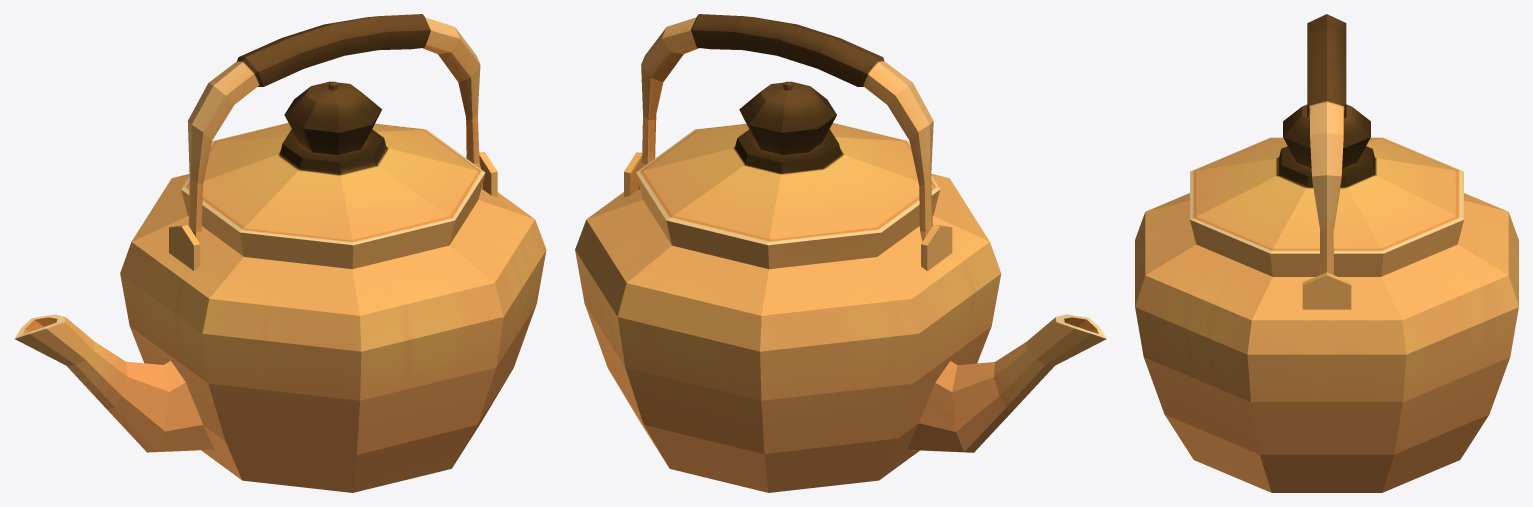
File: Background_Stage4Decoration_boiler_A.fbx
The picture shows the model from 3 angles, left to right: view 1: azimuth 30°, elevation 25°; view 2: azimuth 150°, elevation 25°; view 3: azimuth 270°, elevation 25°; orthographic projection. The views are drawn at different scales.
Parts seen in each view (by area): view 1: Background_Stage4Decoration_boiler_A; view 2: Background_Stage4Decoration_boiler_A; view 3: Background_Stage4Decoration_boiler_A.
Part boxes in pixels (bbox=[...]): Background_Stage4Decoration_boiler_A: bbox=[14, 14, 546, 492]; Background_Stage4Decoration_boiler_A: bbox=[575, 14, 1106, 492]; Background_Stage4Decoration_boiler_A: bbox=[1135, 14, 1518, 492].
Size of the model in its own units: 210 by 175 by 147.
